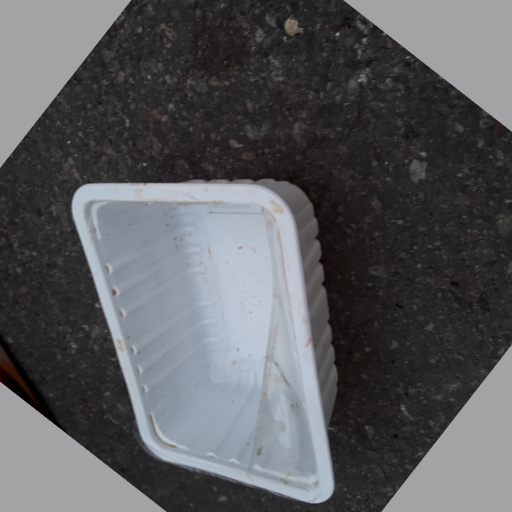Plastic_4: (70, 179, 348, 505)
